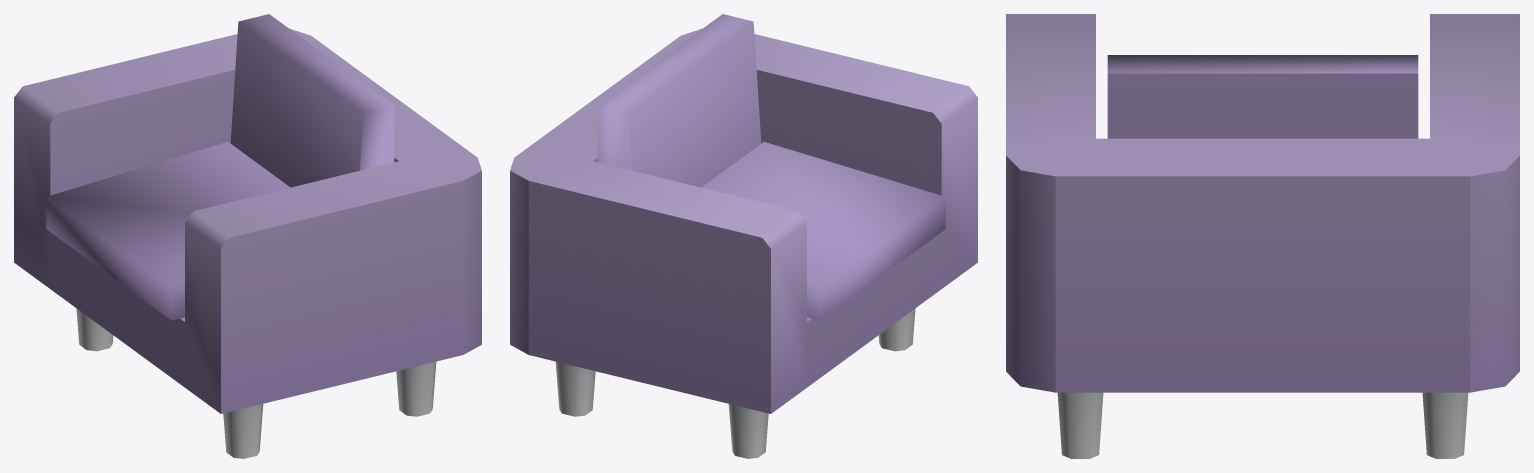
File: stockholm-chair.glb
3 views of the same model, side by side, from view 1: azimuth 30°, elevation 25°; view 2: azimuth 150°, elevation 25°; view 3: azimuth 270°, elevation 25° (orthographic). The views are drawn at different scales.
Parts seen in each view (by area): view 1: stockholm-chair; view 2: stockholm-chair; view 3: stockholm-chair.
Boxes of the visible parts, x1,y1,x2,y2 form: stockholm-chair: [14, 14, 481, 458]; stockholm-chair: [510, 14, 977, 458]; stockholm-chair: [1006, 14, 1519, 458].
Bounding box in the file's own units: 0.693 × 0.6929 × 0.87.
